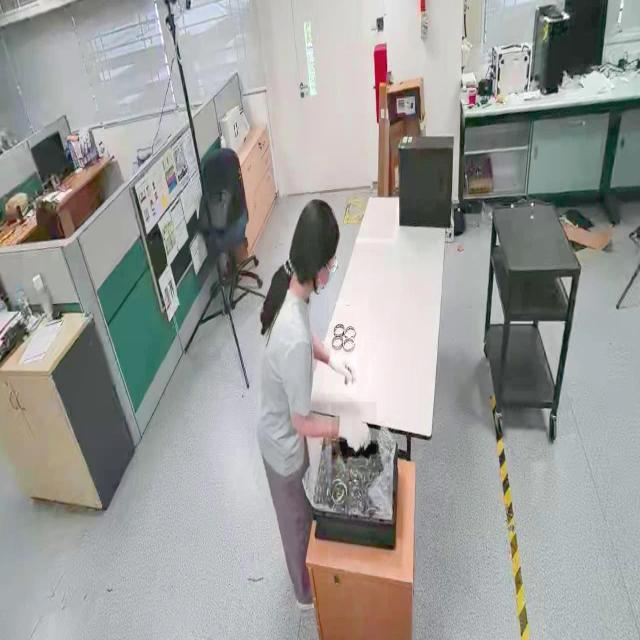hand_glove: (331, 402, 377, 459), (323, 337, 357, 394)
head_nohelmet: (300, 198, 340, 238)
person: (253, 197, 371, 618)
